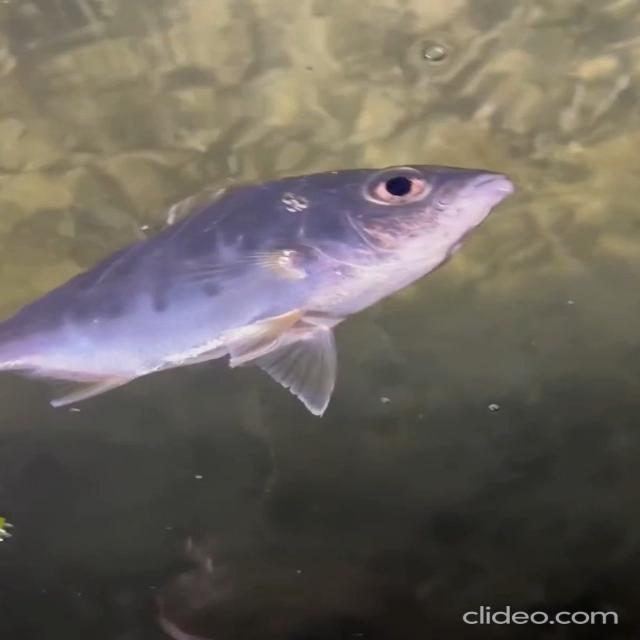fish: (7, 155, 527, 429)
